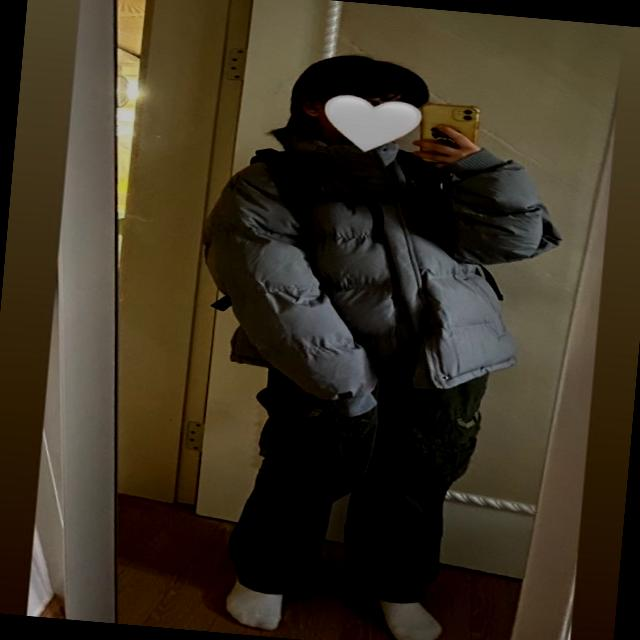cottonpants: (222, 344, 490, 610)
padding: (186, 118, 572, 436)
